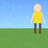person: (31, 4, 45, 33)
